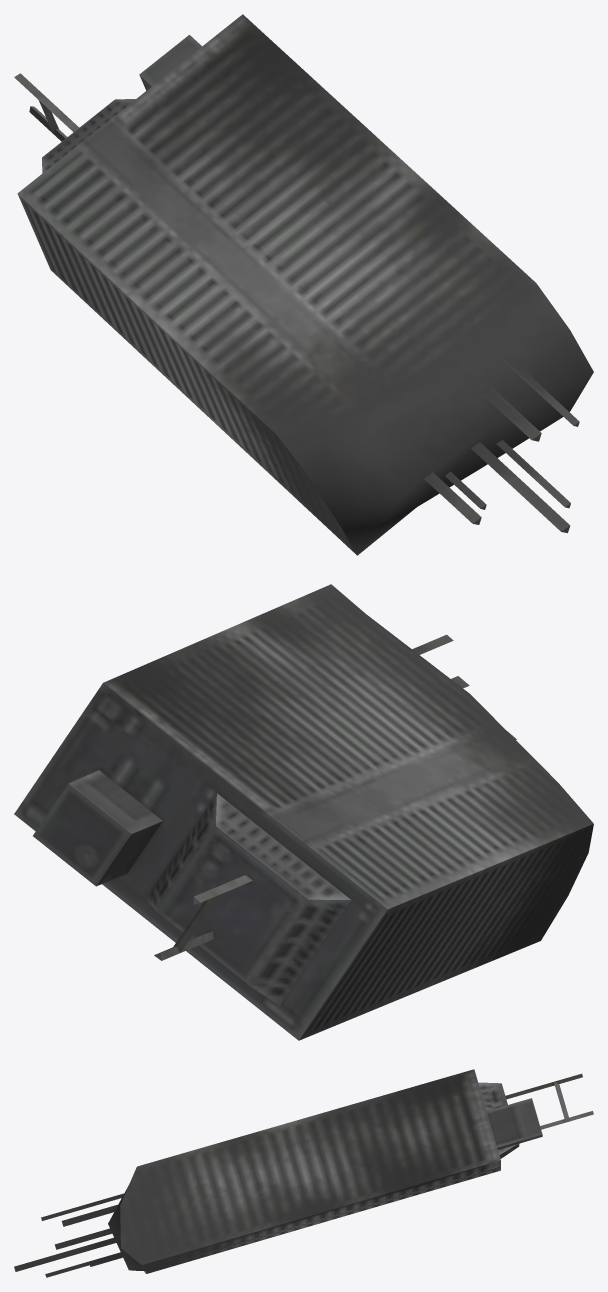
File: skyBuildingAAC_pos_grp (3).fbx
The picture shows the model from 3 angles, top to bottom: view 1: azimuth 30°, elevation 25°; view 2: azimuth 150°, elevation 25°; view 3: azimuth 270°, elevation 25°; orthographic projection. The views are drawn at different scales.
Parts seen in each view (by area): view 1: skyBuildingAAC_geo; view 2: skyBuildingAAC_geo; view 3: skyBuildingAAC_geo.
Part boxes in pixels (x1=…): skyBuildingAAC_geo: x1=14, y1=14, x2=593, y2=555; skyBuildingAAC_geo: x1=14, y1=584, x2=593, y2=1040; skyBuildingAAC_geo: x1=14, y1=1069, x2=593, y2=1277.
Size of the model in its own units: 5.26 by 5.13 by 10.99.
